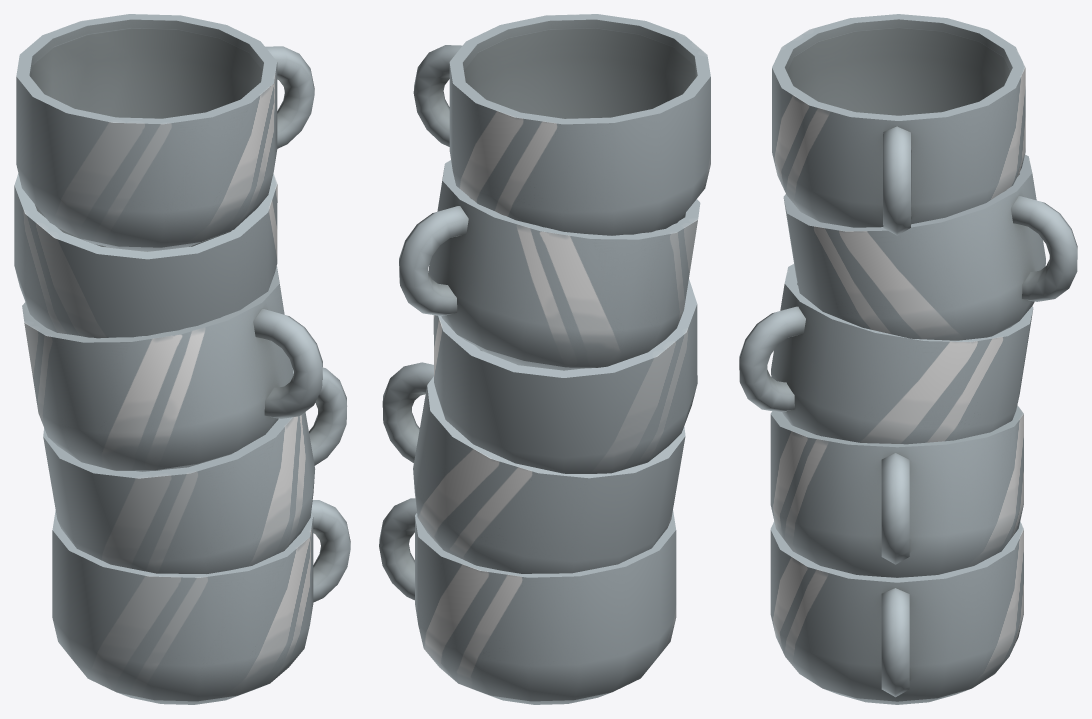
The model's file is cup stack.fbx.
3 views of the same model, side by side, from view 1: azimuth 30°, elevation 25°; view 2: azimuth 150°, elevation 25°; view 3: azimuth 270°, elevation 25° (orthographic). The views are drawn at different scales.
Parts seen in each view (by area): view 1: cup stack; view 2: cup stack; view 3: cup stack.
Part boxes in pixels (box(x1,y1,x2,y2)): cup stack: box(14, 14, 350, 704); cup stack: box(379, 14, 710, 704); cup stack: box(739, 14, 1077, 704).
Bounding box in the file's own units: 77.72 × 144 × 74.75.
